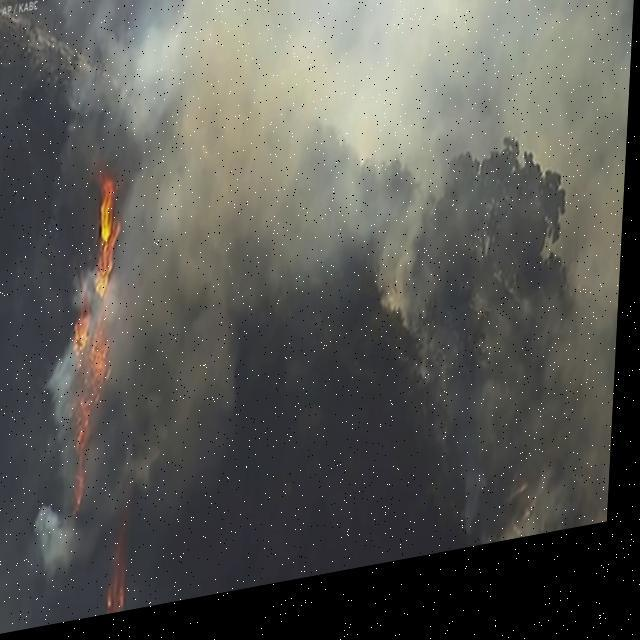Fire: (70, 177, 126, 522)
